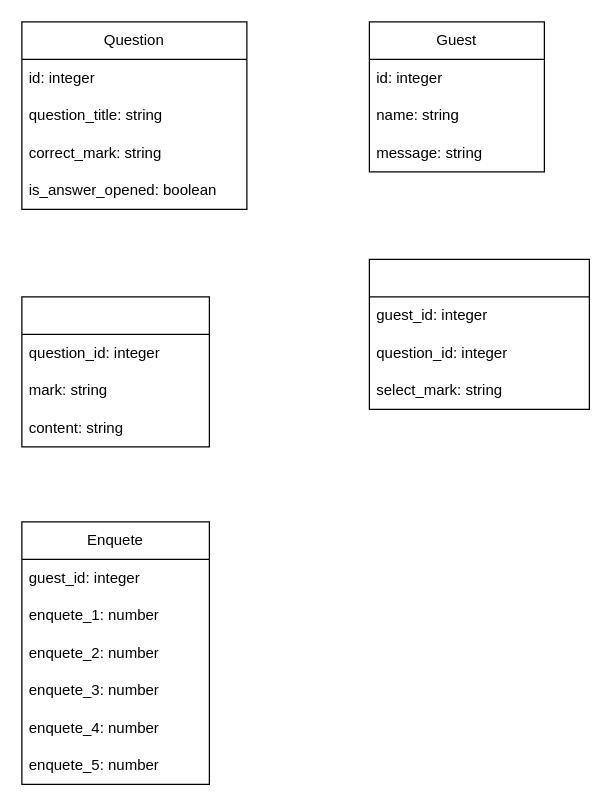
Image size: 611x806. Some labels were removed from this diagram. Here are the shapes that lost their labels. From the top down, the box of each, then its label:
(368, 258, 589, 409): GuestSelectAnswer
(21, 296, 209, 447): Choice
